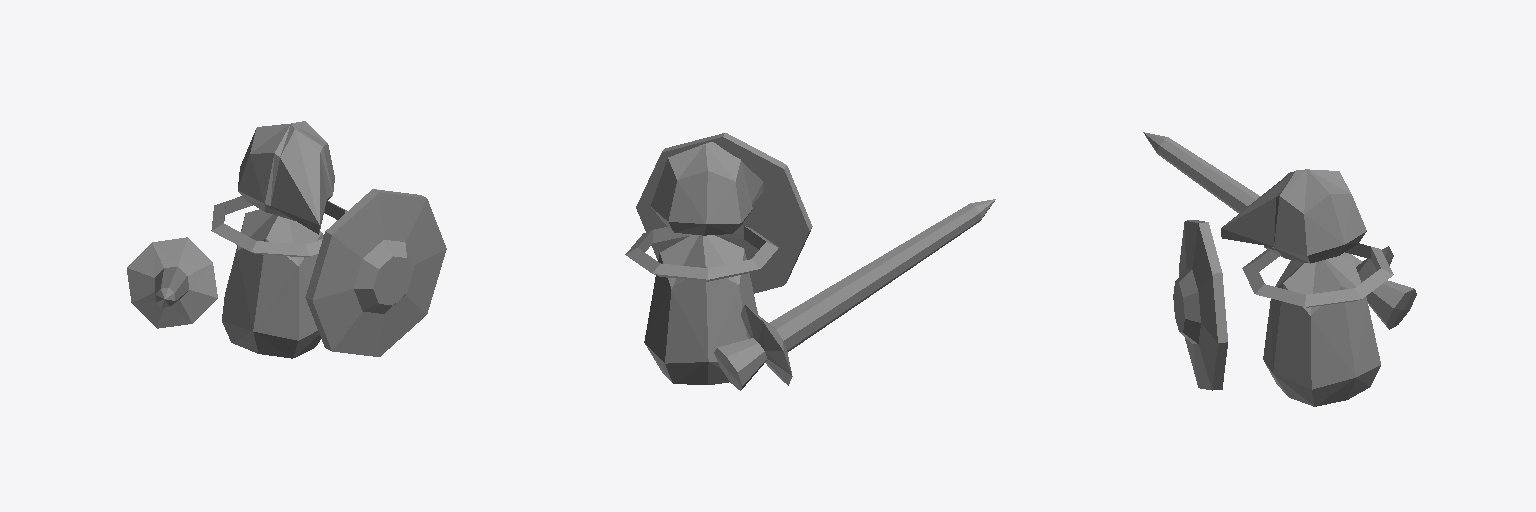
3 views of the same model, side by side, from view 1: azimuth 30°, elevation 25°; view 2: azimuth 150°, elevation 25°; view 3: azimuth 270°, elevation 25° (orthographic).
Parts seen in each view (by area): view 1: meshMinion; view 2: meshMinion; view 3: meshMinion.
Boxes of the visible parts, box(x1,y1,x2,y2) form: meshMinion: box(127, 121, 446, 358); meshMinion: box(625, 133, 995, 390); meshMinion: box(1143, 132, 1416, 406).
Size of the model in its own units: 153 by 101 by 114.